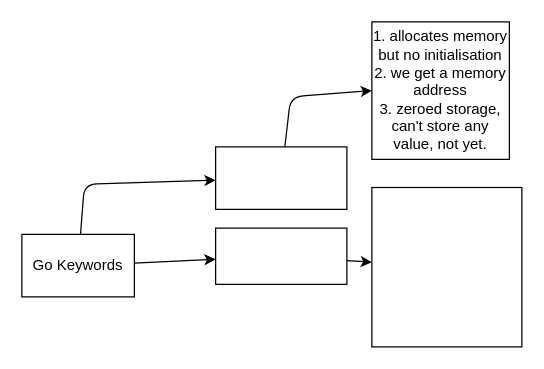
The diagram is 544 pixels wide and 369 high, and some of its shapes have lost their labels. The box of each missing label's shape, as (x1, y1, x2, y2) in pixels:
make(): (214, 227, 347, 284)
new(): (214, 146, 347, 209)
